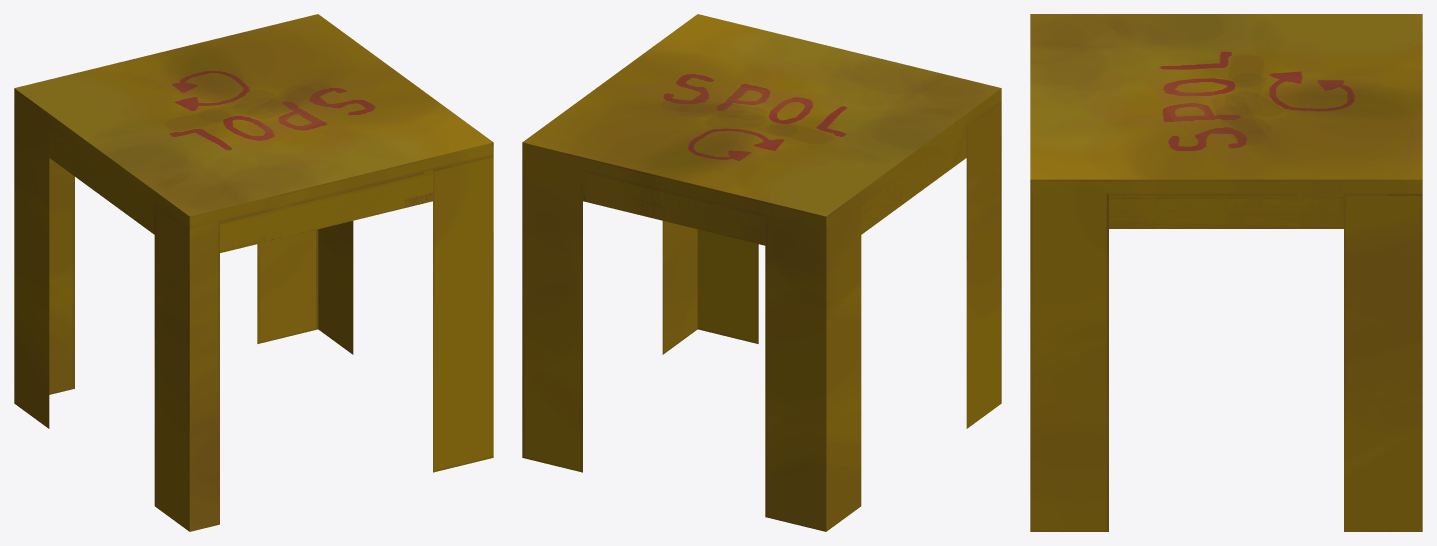
File: mesabarglb.glb
3 views of the same model, side by side, from view 1: azimuth 30°, elevation 25°; view 2: azimuth 150°, elevation 25°; view 3: azimuth 270°, elevation 25° (orthographic). The views are drawn at different scales.
Parts seen in each view (by area): view 1: Grade; view 2: Grade; view 3: Grade.
Boxes of the visible parts, x1,y1,x2,y2 form: Grade: (14,14,493,531); Grade: (522,14,1001,531); Grade: (1030,14,1422,531).
Bounding box in the file's own units: 2 × 1.98 × 2.
Materials: 1 (1 with a texture image).
